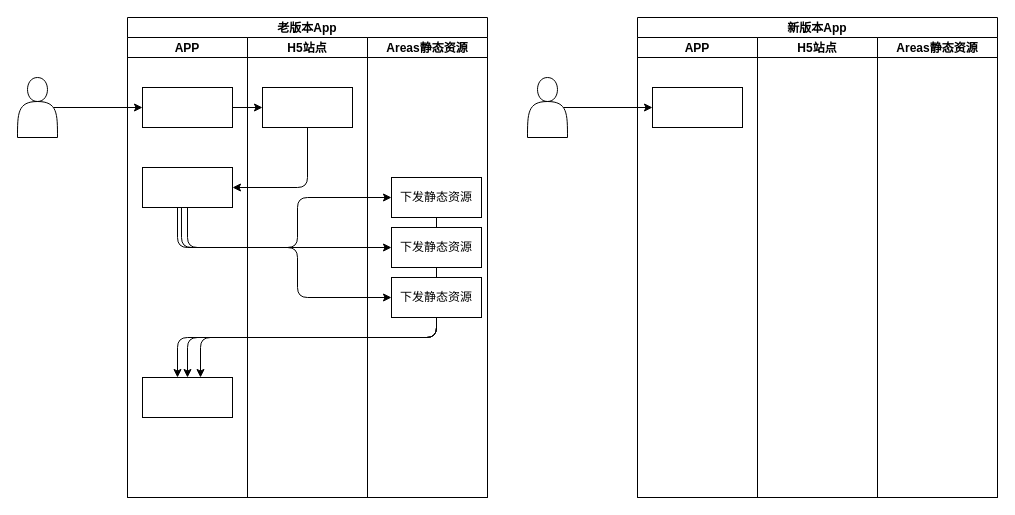
The diagram is 1015 pixels wide and 515 high, and some of its shapes have lost their labels. Here are the shapes that lost their labels. From the top down, the box of each, then its label:
(142, 86, 232, 128): 发起http请求
(262, 86, 352, 128): 下发html页面
(652, 86, 742, 128): Native渲染
(142, 166, 232, 208): 解析页面
(142, 376, 232, 418): WebView渲染
